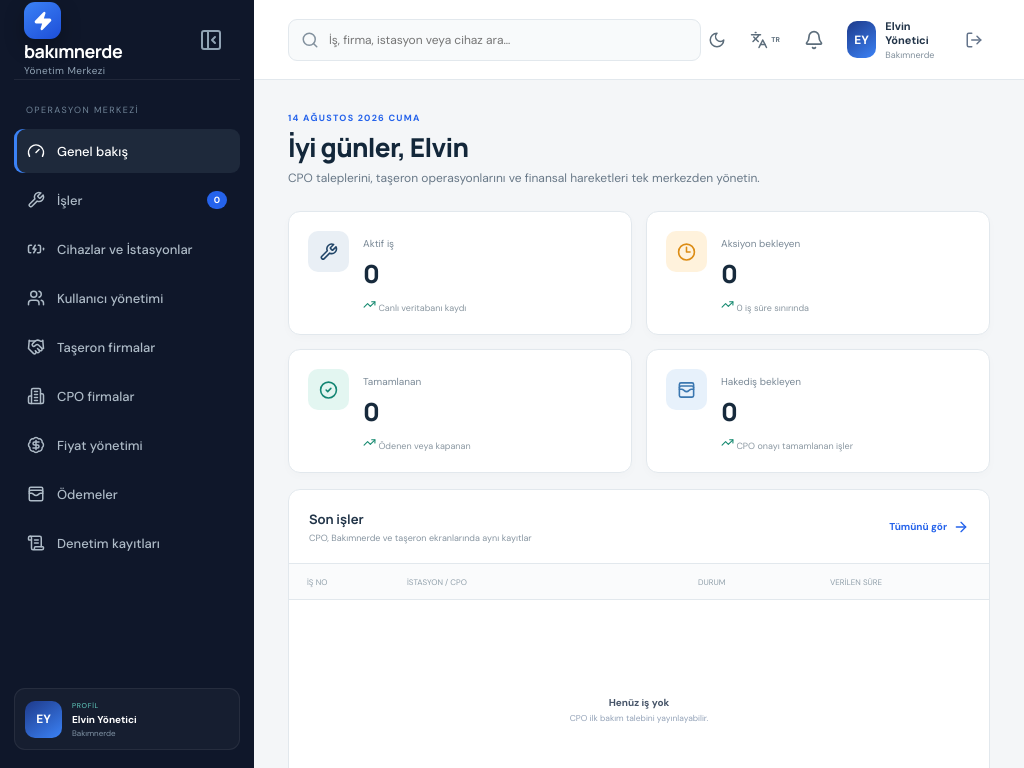
it: Admin panel auth routing › üst aramayı Ctrl+K olmadan işler ekranındaki canlı filtreye taşır
The width and height of the screenshot is (1024, 768).
In the search field named "Platformda ara": coordinates (504, 40) [319,32,688,48], type "Wattarya"
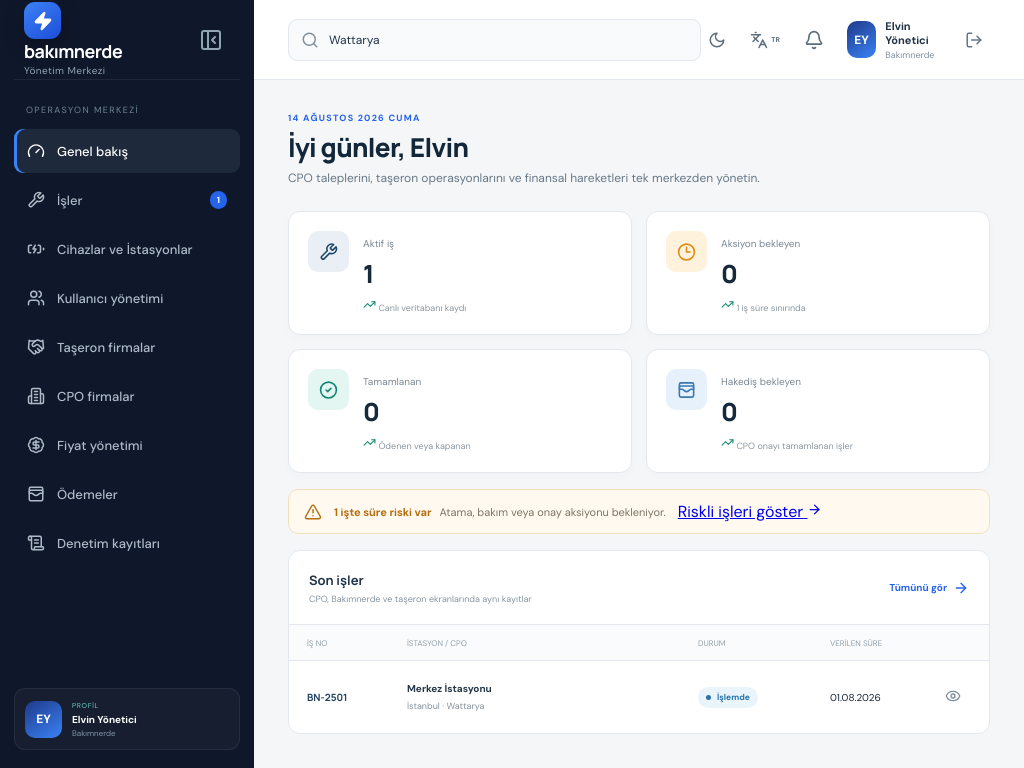
Submit the form named "Platformda ara", box [288,18,701,60]
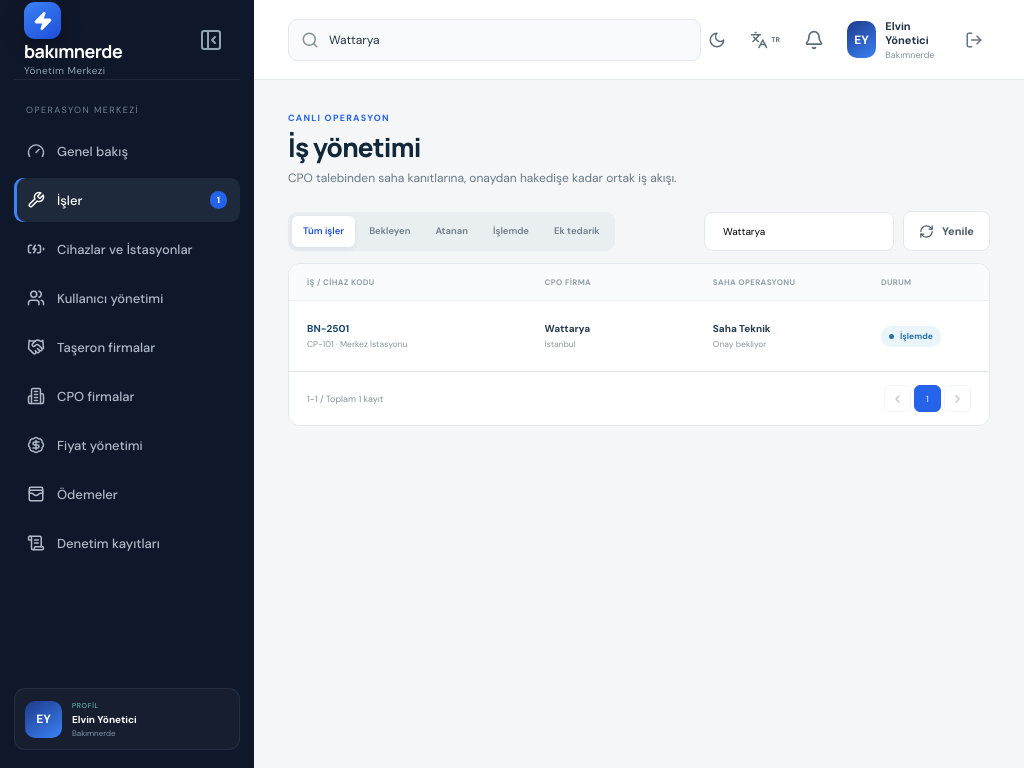
Expected: the text "BN-2501" is shown, [307,322,349,335]
Expected: the heading "İş yönetimi" is shown, [288,129,421,165]
